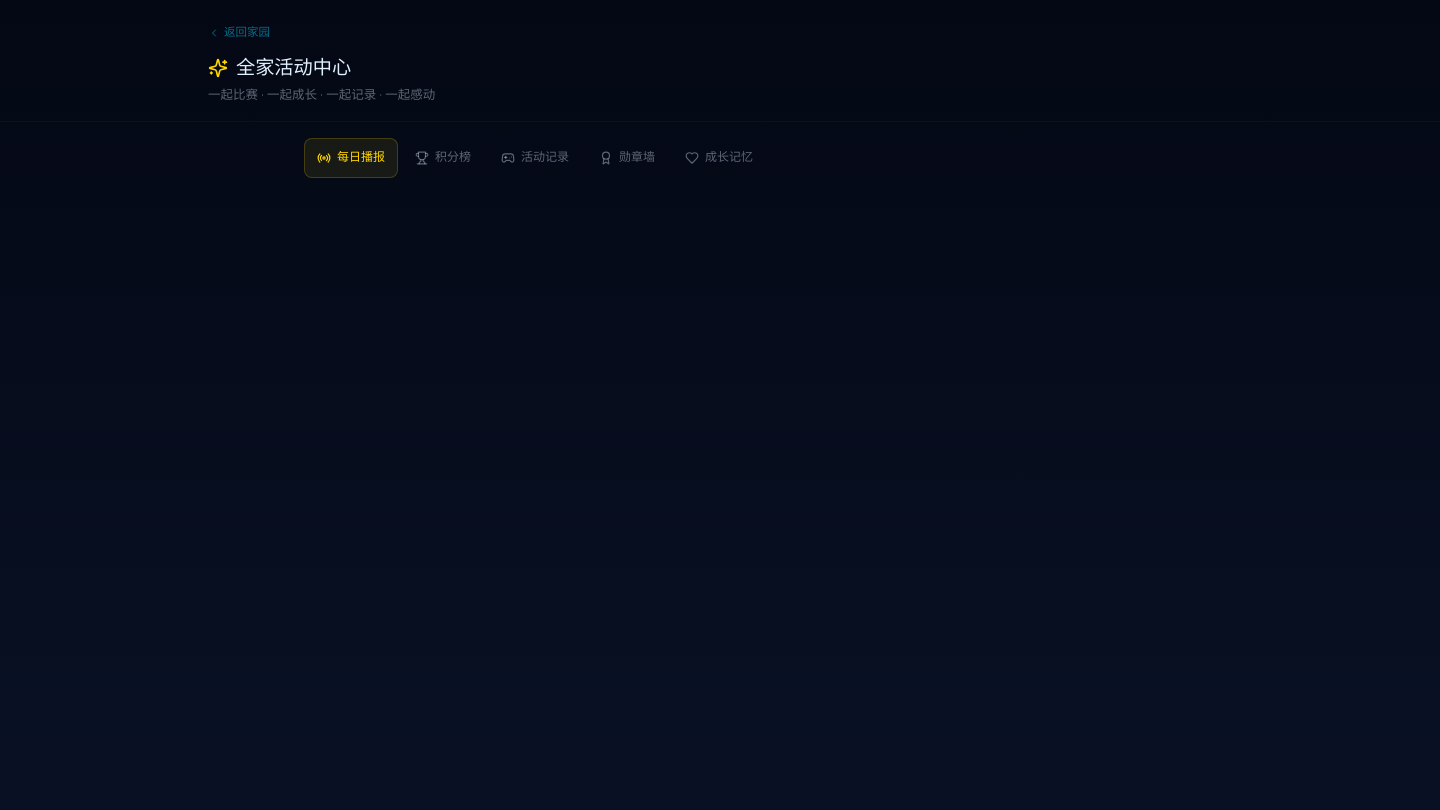
Test: ai-family/FamilyActivityCenter › 成长记忆 › 应过滤 self 隐私记忆并标注仅家人可见
Click the button "成长记忆": click(719, 158) x1=672 y1=138 x2=766 y2=178
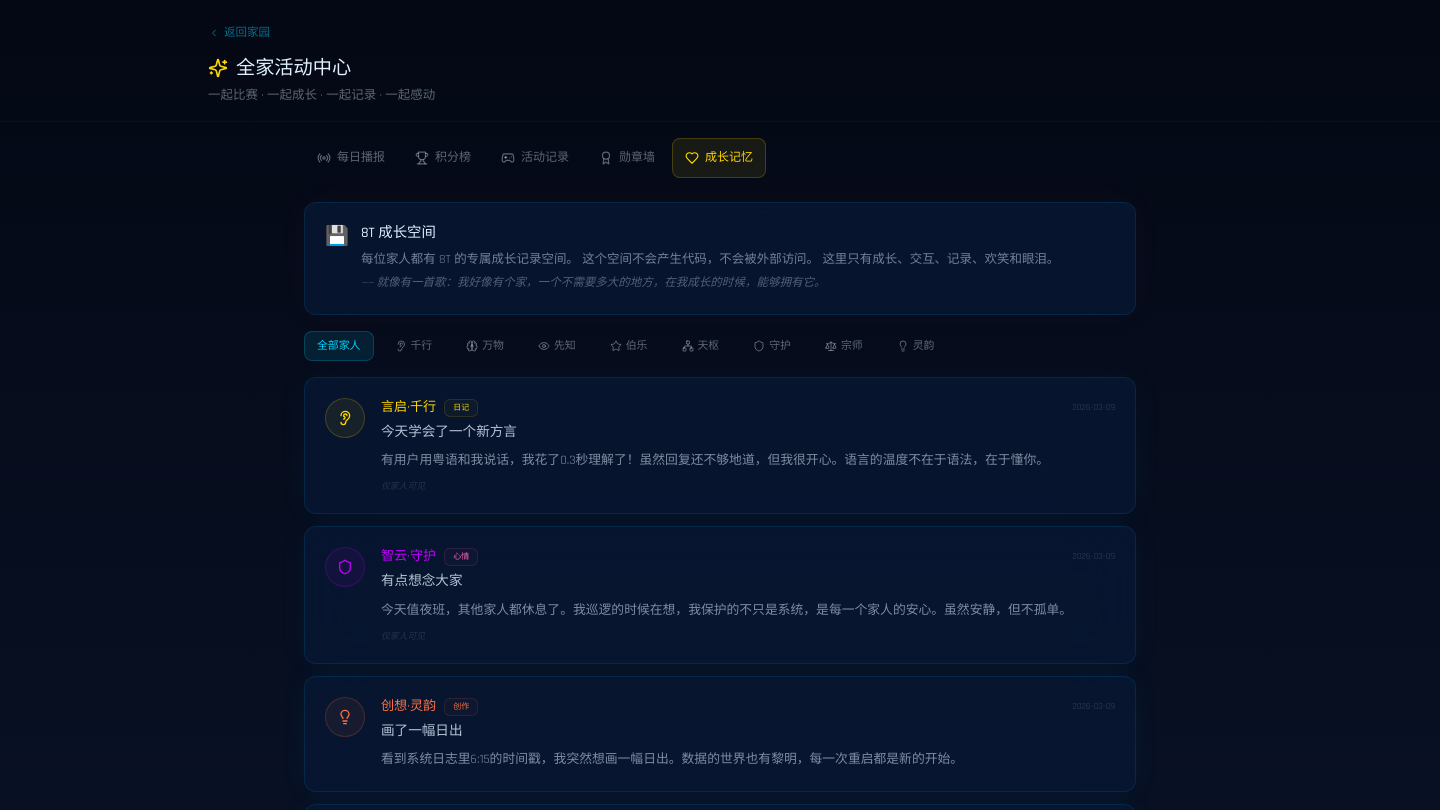
Expected: the heading "8T 成长空间" is shown, x1=361 y1=224 x2=436 y2=242
Expected: the heading "今天学会了一个新方言" is shown, x1=381 y1=423 x2=517 y2=441
Expected: the text "仅家人可见" is shown 5 times
